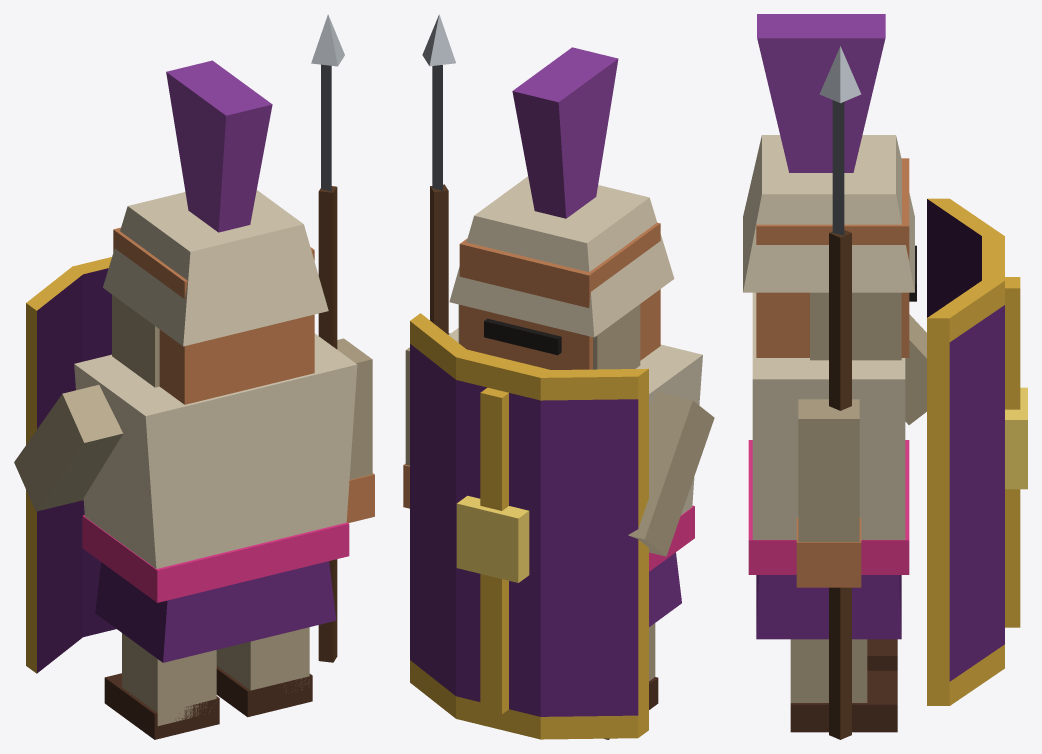
The model's file is EN_Praetorian.fbx.
3 views of the same model, side by side, from view 1: azimuth 30°, elevation 25°; view 2: azimuth 150°, elevation 25°; view 3: azimuth 270°, elevation 25° (orthographic). The views are drawn at different scales.
Visible parts, largest first — view 1: Body, Helm, Shield, Skirt, Plume, Head, Belt, ArmL, LegL, LegR, Pilum, CheekL (+6 smaller); view 2: Shield, Helm, Plume, Head, Spine, ArmL, Boss, Body, Pilum, CheekL, Skirt, Eyes (+4 smaller); view 3: Shield, Body, Helm, Plume, ArmR, Head, Pilum, Skirt, CheekR, Belt, Spine, BootR (+7 smaller).
Part boxes in pixels (x1,y1,x2,y2): Body: (74, 333, 357, 568); Helm: (103, 190, 328, 346); Shield: (26, 257, 115, 673); Skirt: (95, 561, 336, 662); Plume: (166, 60, 272, 232); Head: (113, 227, 314, 404); Belt: (82, 515, 349, 602); ArmL: (14, 385, 122, 511); LegL: (122, 633, 216, 725); LegR: (216, 627, 309, 690); Pilum: (318, 186, 337, 662); CheekL: (112, 294, 159, 387); Shield: (410, 313, 648, 739); Helm: (449, 176, 674, 337); Plume: (512, 47, 618, 218); Head: (459, 222, 660, 369); Spine: (480, 387, 508, 714); ArmL: (628, 391, 714, 556); Boss: (456, 495, 529, 582); Body: (449, 328, 702, 514); Pilum: (430, 184, 448, 334); CheekL: (593, 304, 640, 369); Skirt: (649, 552, 681, 626); Eyes: (484, 318, 561, 355); Shield: (927, 198, 1004, 705); Body: (752, 292, 905, 539); Helm: (743, 135, 914, 292); Plume: (757, 14, 885, 172); ArmR: (798, 399, 859, 541); Head: (756, 158, 909, 357); Pilum: (829, 230, 851, 739); Skirt: (756, 575, 901, 639); CheekR: (810, 292, 901, 360); Belt: (748, 440, 909, 574); Spine: (1005, 277, 1020, 627); BootR: (790, 670, 897, 732).
Bounding box in the file's own units: 0.925 × 0.7458 × 2.04.
